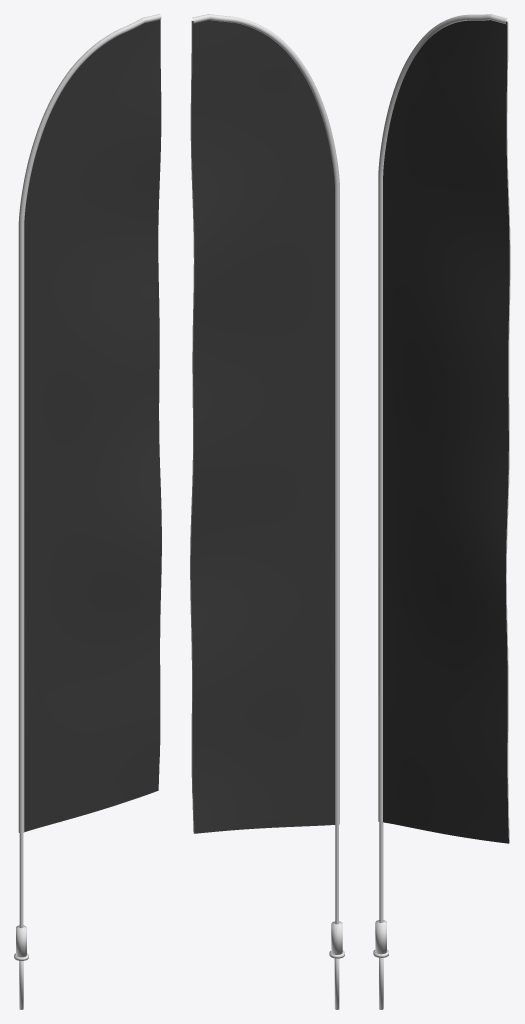
File: flag14-single-spike.glb
3 renders of one model, left to right at view 1: azimuth 30°, elevation 25°; view 2: azimuth 210°, elevation 25°; view 3: azimuth 330°, elevation 25°, orthographic. The views are drawn at different scales.
Visible parts, largest first — view 1: side_front, pocket, pole; view 2: side_back, pocket, edge, pole, base_collar; view 3: side_front, pocket, edge, pole, base_collar.
Part boxes in pixels (x1,y1,x2,y2): side_front: (24,19,161,831); pocket: (18,14,161,833); pole: (19,833,23,928); side_back: (191,20,334,833); pocket: (192,14,339,824); edge: (190,20,194,833); pole: (335,825,338,924); base_collar: (331,921,342,954); side_front: (383,20,509,843); pocket: (378,14,507,822); edge: (506,20,510,843); pole: (379,822,383,922); base_collar: (375,920,386,954).
Bounding box in the file's own units: 0.6337 × 4.34 × 0.1238.
Materials: 1 (1 with a texture image).
